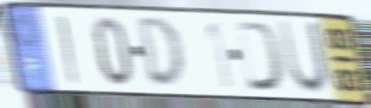0: (91, 13, 135, 89)
1: (205, 21, 234, 89)
D: (234, 18, 287, 94), (135, 15, 187, 92)
I: (55, 13, 83, 87)
U: (276, 18, 333, 98)
